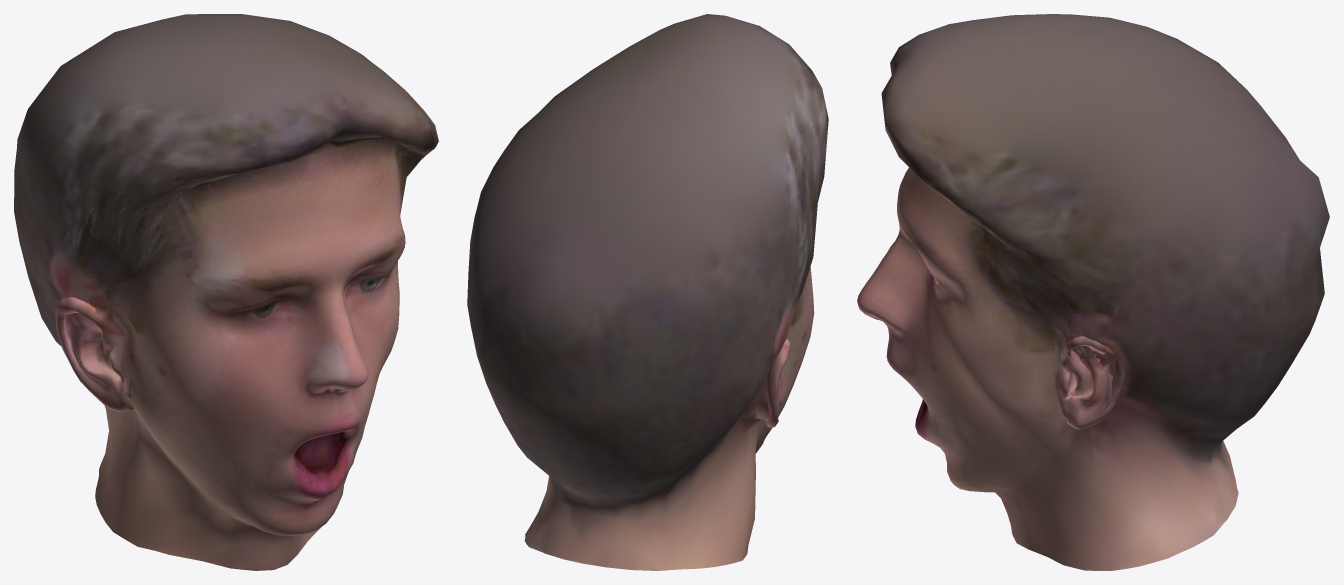
Rendered from aaron.gltf.
The picture shows the model from 3 angles, left to right: view 1: azimuth 30°, elevation 25°; view 2: azimuth 150°, elevation 25°; view 3: azimuth 270°, elevation 25°; orthographic projection. The views are drawn at different scales.
Parts seen in each view (by area): view 1: model_T; view 2: model_T; view 3: model_T.
Boxes of the visible parts, box(x1,y1,x2,y2) form: model_T: box(14, 14, 438, 570); model_T: box(467, 14, 828, 570); model_T: box(857, 14, 1329, 570).
Size of the model in its own units: 0.1747 by 0.2719 by 0.2343.
Materials: 1 (1 with a texture image).
